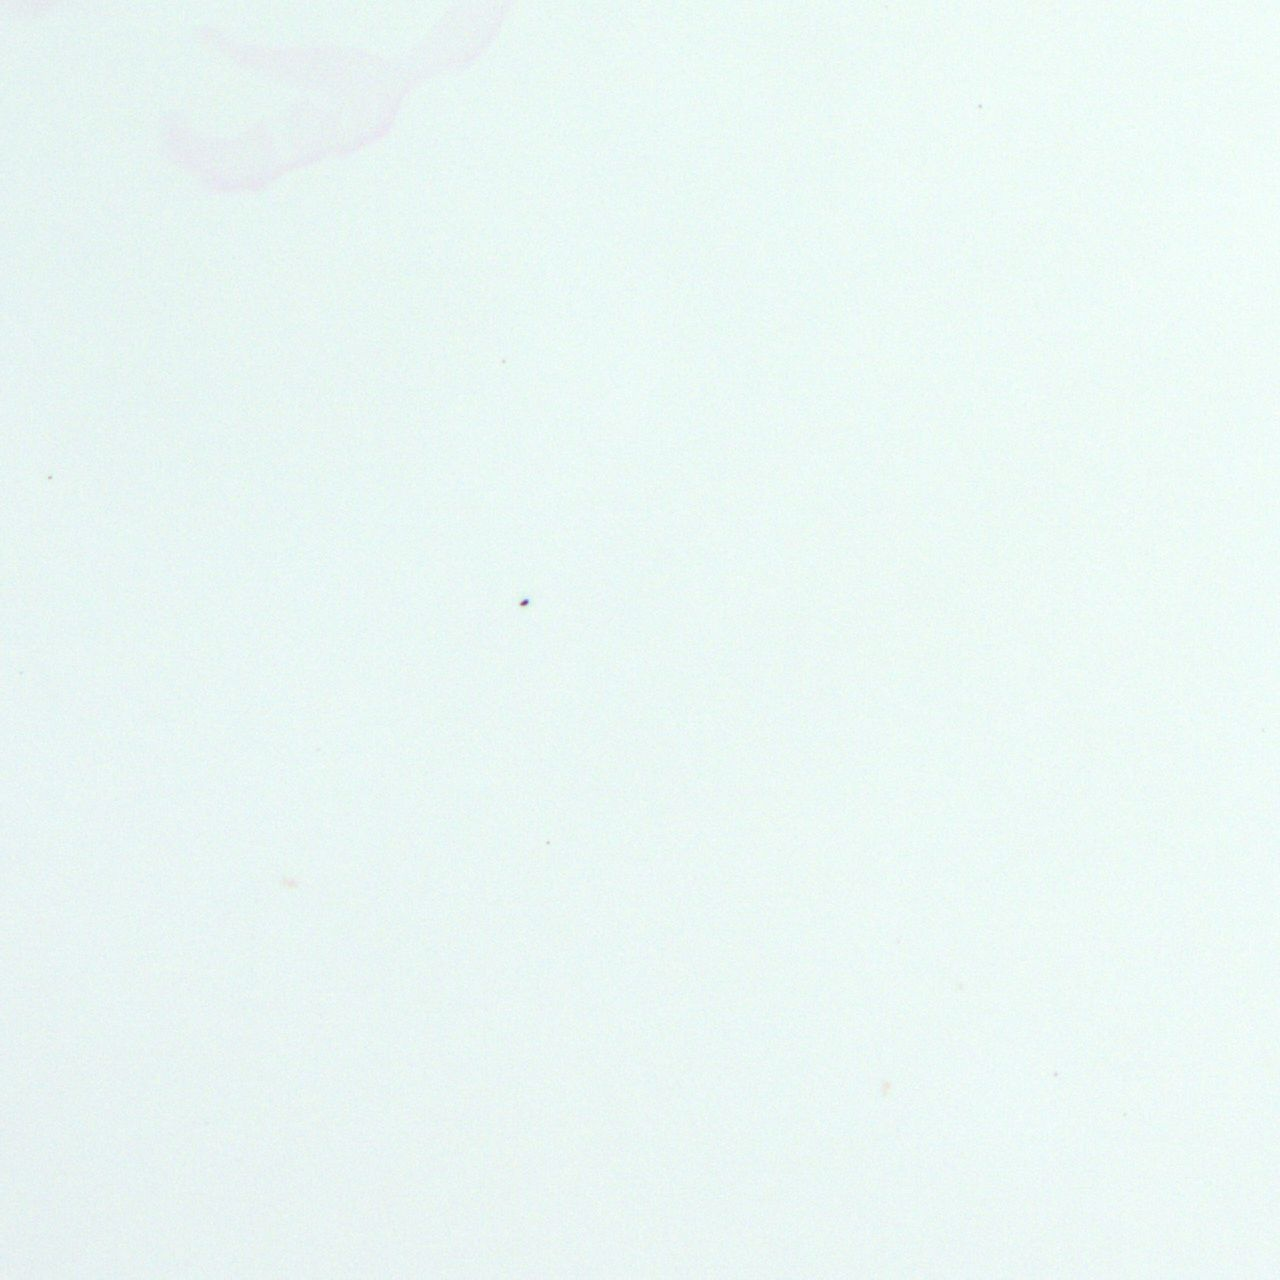dust: (518, 595, 530, 607)
